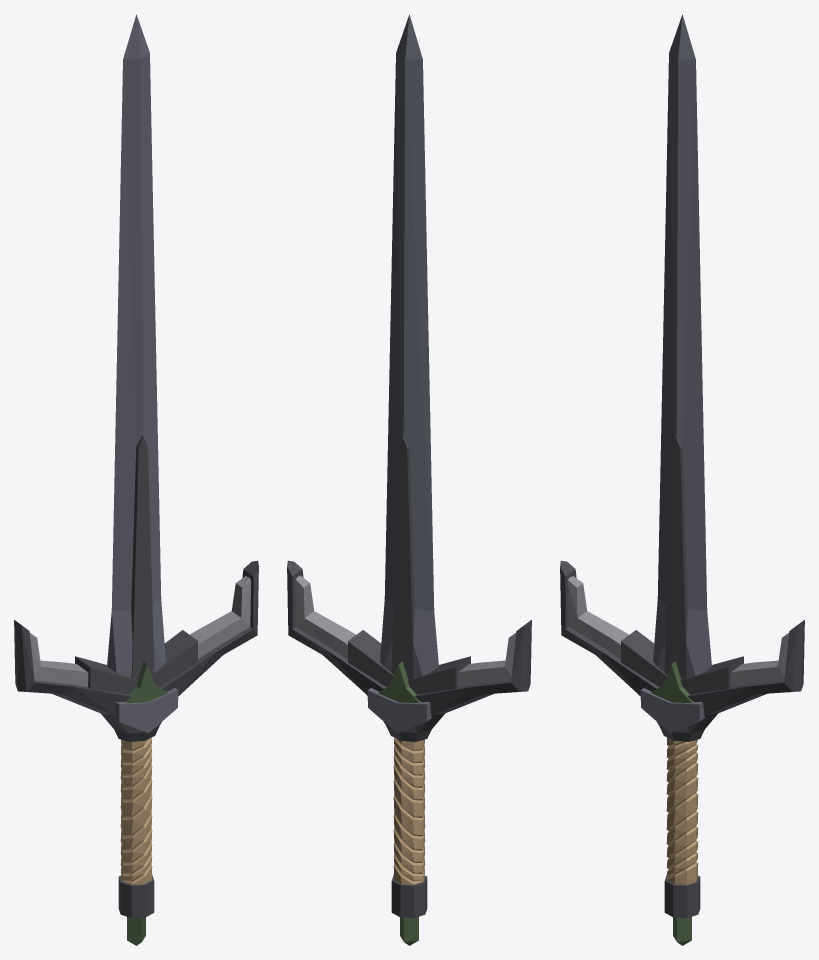
The model's file is _sword_7.fbx.
3 renders of one model, left to right at view 1: azimuth 30°, elevation 25°; view 2: azimuth 150°, elevation 25°; view 3: azimuth 330°, elevation 25°, orthographic.
Visible parts, largest first — view 1: sword_7; view 2: sword_7; view 3: sword_7.
Boxes of the visible parts, x1,y1,x2,y2 form: sword_7: (14,14,258,945); sword_7: (287,14,531,945); sword_7: (560,14,804,945).
Size of the model in its own units: 29.67 by 109 by 5.17.
